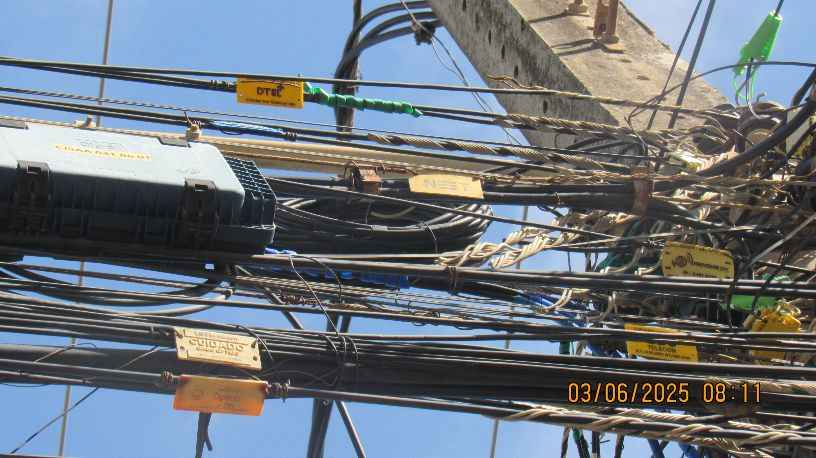caixa_derivacao: (0, 124, 273, 277)
fibra_optica: (83, 323, 304, 415), (213, 66, 321, 114), (615, 323, 703, 372), (652, 238, 748, 280), (409, 167, 490, 201), (77, 369, 178, 373)
